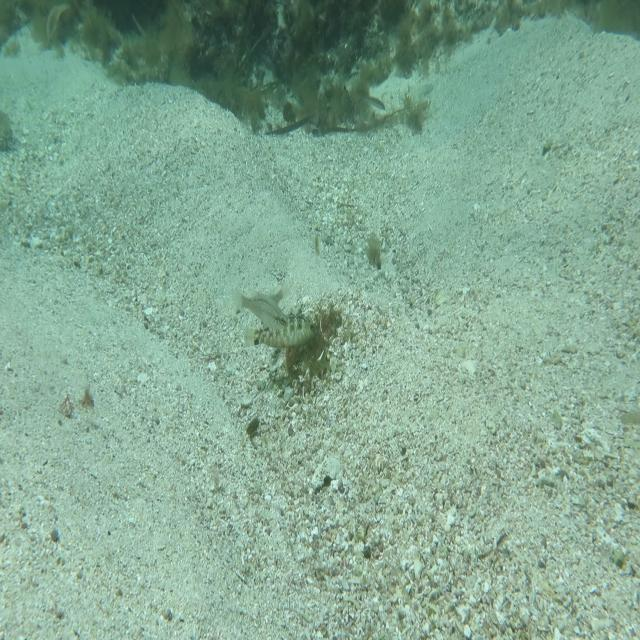NIP_CORE: (239, 306, 324, 356)
female: (230, 284, 291, 336), (258, 275, 294, 312)
nest: (278, 297, 346, 389)
vegetation: (0, 0, 640, 37), (94, 36, 450, 93), (363, 223, 384, 276)
